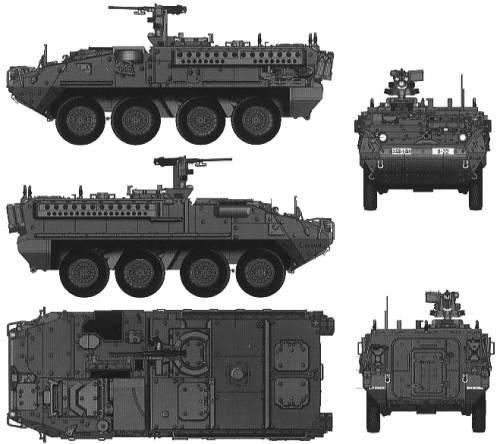MIL_IFV: (5, 5, 336, 145), (10, 157, 337, 298), (7, 308, 337, 443), (357, 68, 492, 213)
